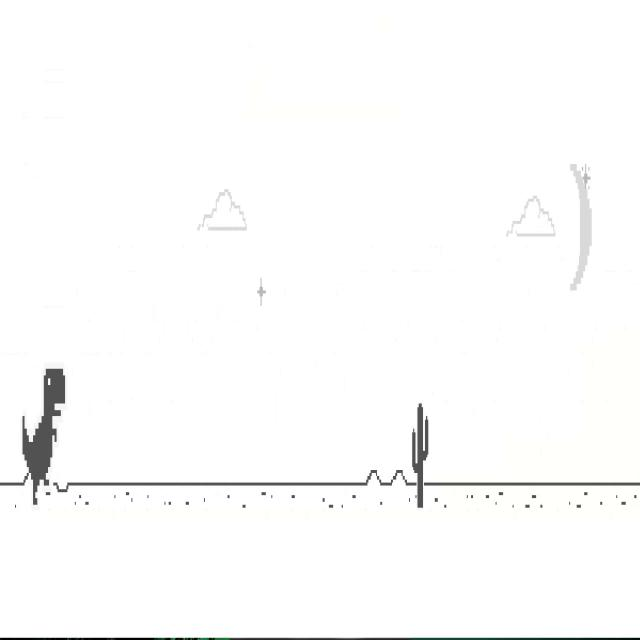cacto: (412, 402, 429, 509)
dino: (21, 368, 66, 507)
